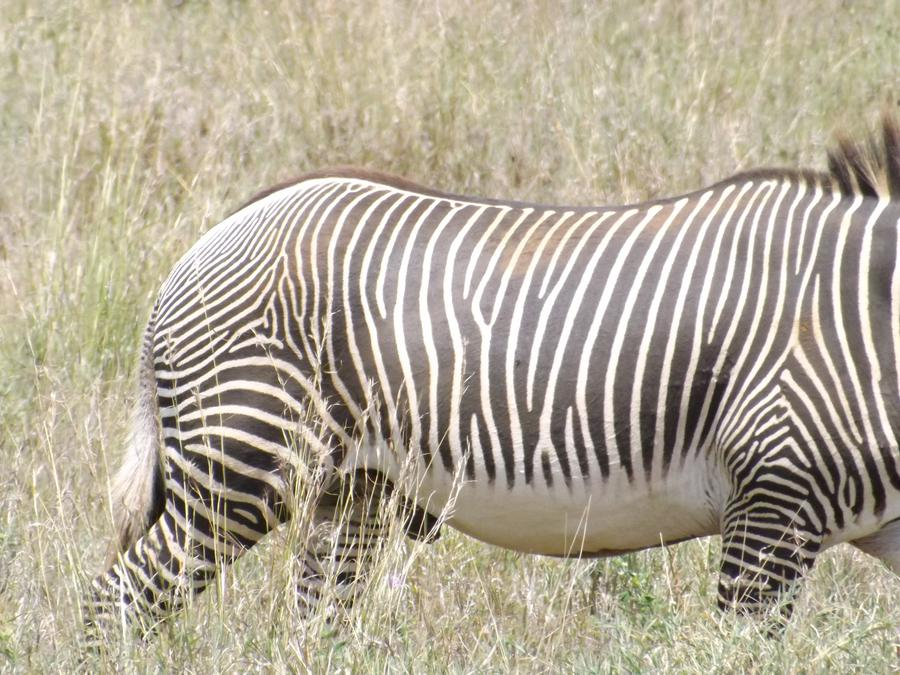zebra_grevys: (139, 168, 874, 540)
